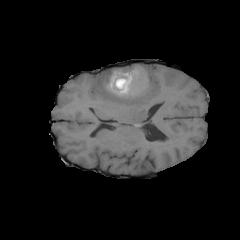glioma: (94, 64, 155, 123)
